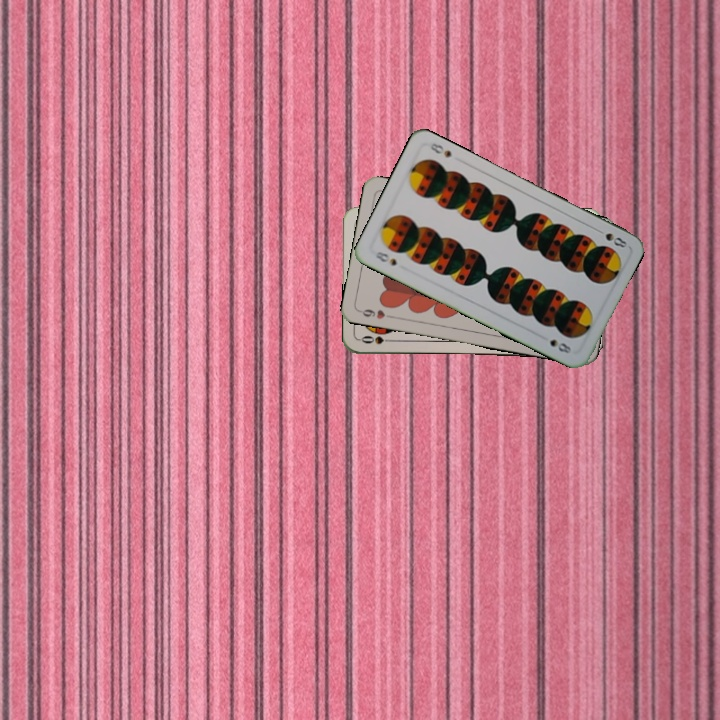H9: (356, 305, 396, 322)
S8: (371, 247, 399, 269), (601, 229, 630, 250)
SO: (357, 332, 398, 347)
